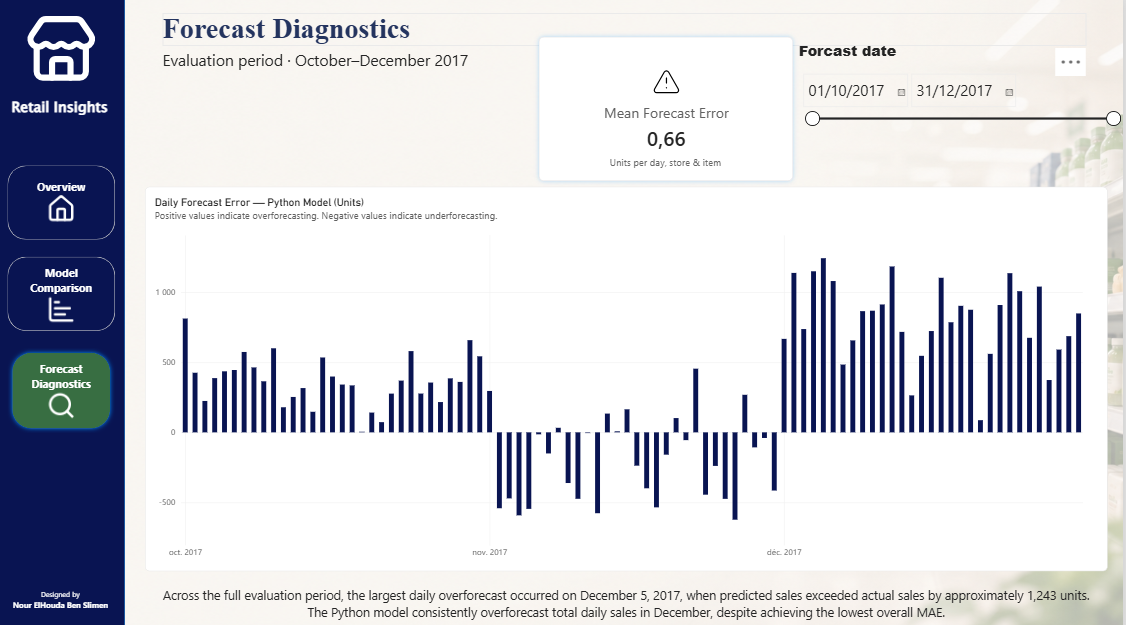

The dashboard page shown, as its layout file describes it:
{"tool":"powerbi","page":{"name":"Forecast Diagnostics","canvas":[1920,1080],"ordinal":5},"visuals":[{"type":"shape","box":[3.3,0,216.7,1080.2],"z":0},{"type":"textbox","box":[286,26,1571.8,57.1],"z":1000},{"type":"textbox","box":[286,88,1110.9,47.3],"z":2000},{"type":"actionButton","box":[20.7,284.5,183.1,126.1],"z":3000},{"type":"actionButton","box":[20.7,441.4,183.1,126.1],"z":4000},{"type":"actionButton","box":[20.7,596.6,182.8,144.8],"z":5000},{"type":"image","box":[39.7,25.9,144.8,125.9],"z":6000},{"type":"textbox","box":[20.7,169,177.6,39.7],"z":7000},{"type":"textbox","box":[20,1004,184,62],"z":8000},{"type":"slicer","title":"Forcast date","fields":{"Values":["Forecast_Evaluation_Python.ForecastDate"]},"box":[1368,72,552,230],"z":9000},{"type":"clusteredColumnChart","title":"Daily Forecast Error — Python Model (Units)","fields":{"Category":["Forecast_Evaluation_Python.ForecastDate"],"Y":["Forecast_Evaluation_Python.Daily Forecast Error Python"]},"box":[256,322,1638,654],"z":10000},{"type":"textbox","box":[256,1002,1638,78],"z":10001},{"type":"cardVisual","title":"Baseline MAE","fields":{"Data":["Forecast_Evaluation_Python.MeanError_Python"]},"box":[913.9,54.3,454.2,267.8],"z":10002},{"type":"textbox","box":[939.2,267.8,406,68],"z":10003}]}

Visuals, with their boxes in screenshot pixels (x1, y1, x2, y2), scaled from the page's 1920x1080 canvas onto the 1126x625 screenshot:
shape: 2:0:129:624
textbox: 168:15:1090:48
textbox: 168:51:819:78
actionButton: 12:165:120:238
actionButton: 12:255:120:328
actionButton: 12:345:119:429
image: 23:15:108:88
textbox: 12:98:116:121
textbox: 12:581:120:617
"Forcast date" slicer: 802:42:1125:175
"Daily Forecast Error — Python Model (Units)" clusteredColumnChart: 150:186:1111:565
textbox: 150:580:1111:624
"Baseline MAE" cardVisual: 536:31:802:186
textbox: 551:155:789:194
